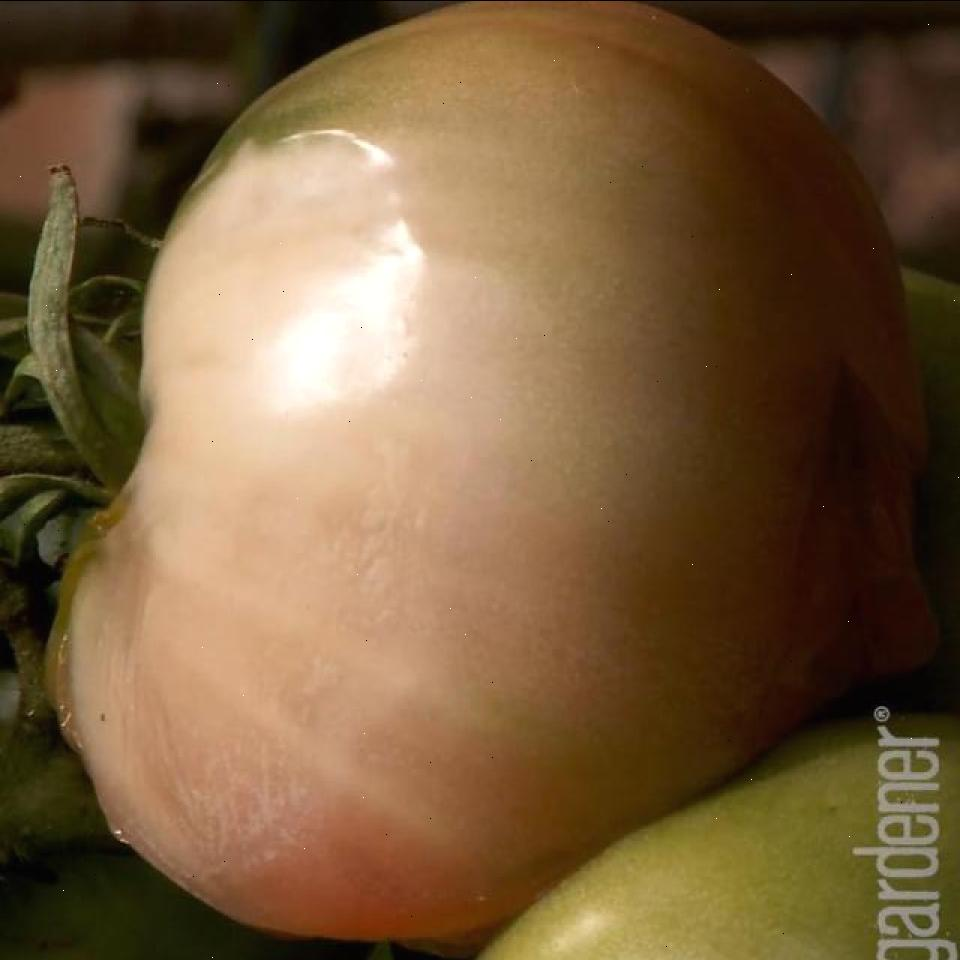Sunscald: (47, 95, 487, 914)
